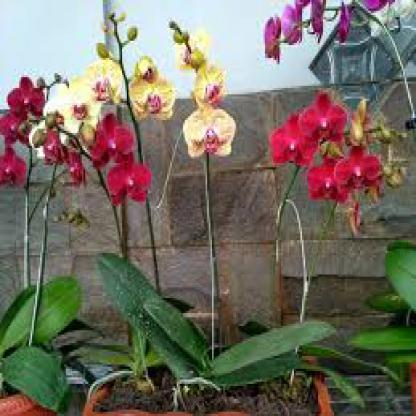ANGGREK: (8, 18, 396, 250)
